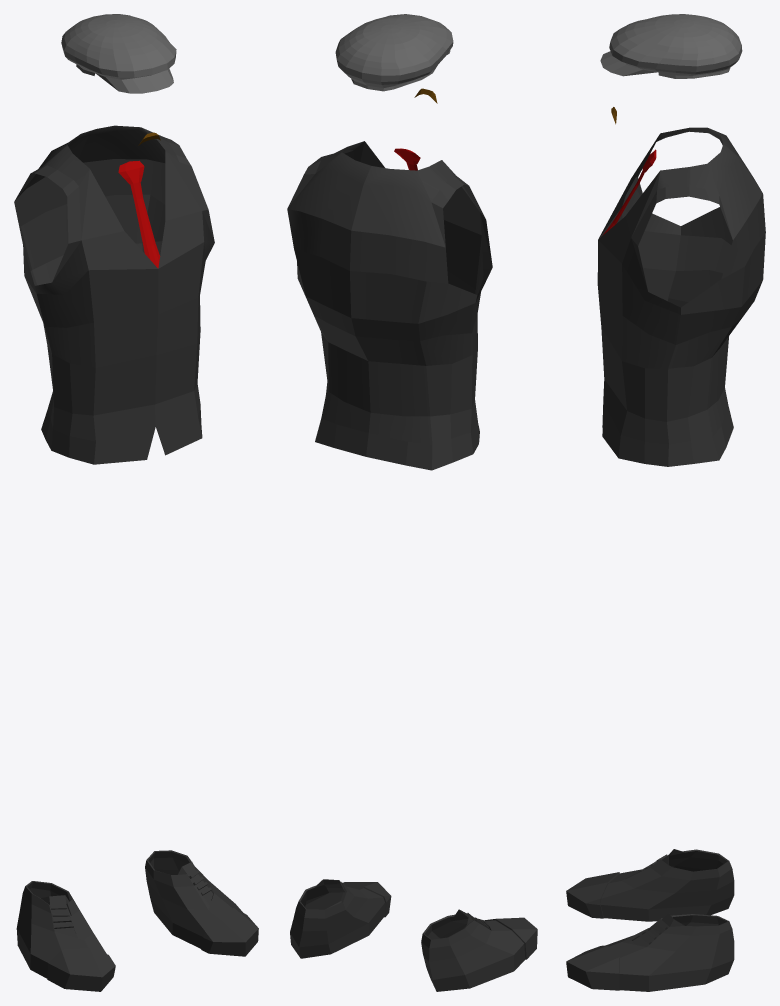
File: gangster.fbx
3 renders of one model, left to right at view 1: azimuth 30°, elevation 25°; view 2: azimuth 150°, elevation 25°; view 3: azimuth 270°, elevation 25°, orthographic. The views are drawn at different scales.
Visible parts, largest first — view 1: WaistCoat1, Shoes1, Hat3, Tie3; view 2: WaistCoat1, Shoes1, Hat3; view 3: WaistCoat1, Shoes1, Hat3.
Boxes of the visible parts, x1,y1,x2,y2 form: WaistCoat1: (14, 125, 214, 464); Shoes1: (16, 850, 258, 991); Hat3: (61, 14, 176, 93); Tie3: (118, 160, 160, 268); WaistCoat1: (287, 141, 492, 470); Shoes1: (290, 879, 537, 991); Hat3: (335, 14, 453, 91); WaistCoat1: (597, 127, 765, 466); Shoes1: (566, 849, 734, 991); Hat3: (600, 14, 742, 78).
Bounding box in the file's own units: 49 × 207 × 40.81.
